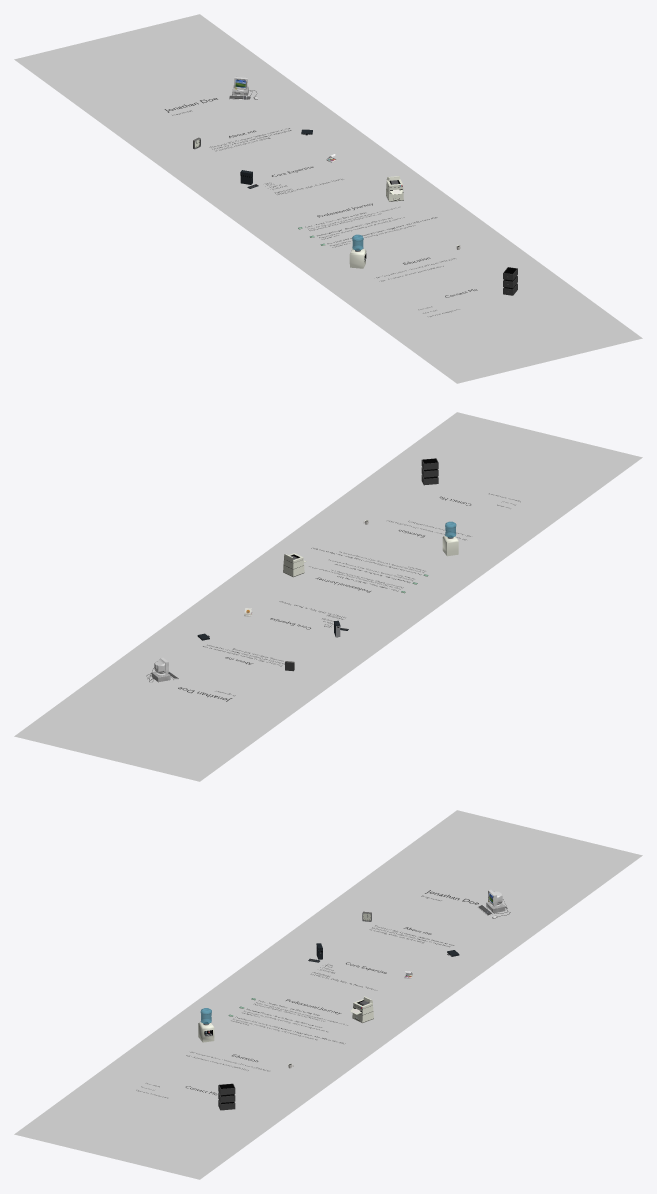
File: Capstone.glb
The picture shows the model from 3 angles, top to bottom: view 1: azimuth 30°, elevation 25°; view 2: azimuth 150°, elevation 25°; view 3: azimuth 330°, elevation 25°; orthographic projection.
Visible parts, largest first — view 1: Plane; view 2: Plane; view 3: Plane.
Part boxes in pixels (x1=…): Plane: x1=14, y1=14, x2=642, y2=383; Plane: x1=14, y1=412, x2=642, y2=781; Plane: x1=14, y1=810, x2=642, y2=1179.
Size of the model in its own units: 39.78 by 7.07 by 164.
Materials: 31 (8 with a texture image).
